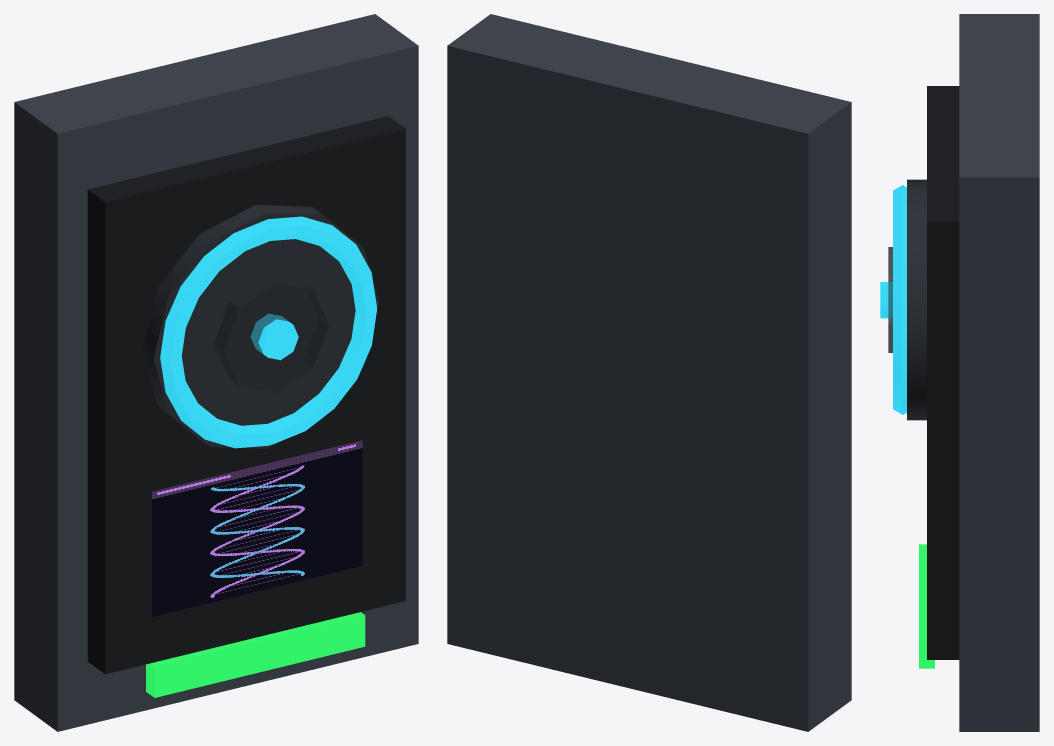
File: camera_retina_scanner.glb
The picture shows the model from 3 angles, left to right: view 1: azimuth 30°, elevation 25°; view 2: azimuth 150°, elevation 25°; view 3: azimuth 270°, elevation 25°; orthographic projection. The views are drawn at different scales.
Parts seen in each view (by area): view 1: camera_retina_scanner; view 2: camera_retina_scanner; view 3: camera_retina_scanner.
Boxes of the visible parts, box(x1,y1,x2,y2) form: camera_retina_scanner: box(14, 14, 418, 731); camera_retina_scanner: box(447, 14, 851, 731); camera_retina_scanner: box(880, 14, 1039, 731).
Size of the model in its own units: 0.24 by 0.38 by 0.099.
7 materials, 1 textured.
